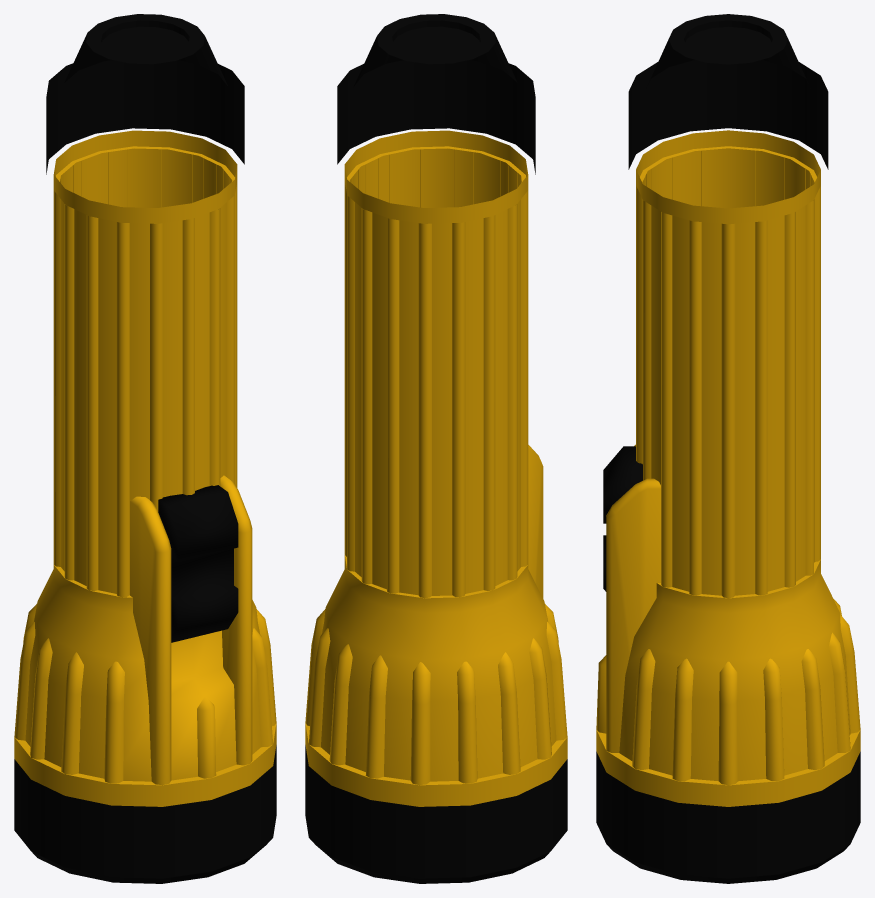
File: flashlight.fbx
3 views of the same model, side by side, from view 1: azimuth 30°, elevation 25°; view 2: azimuth 150°, elevation 25°; view 3: azimuth 270°, elevation 25° (orthographic).
Visible parts, largest first — view 1: Flashlight, flashlight_switch; view 2: Flashlight; view 3: Flashlight, flashlight_switch.
Boxes of the visible parts, x1,y1,x2,y2 form: Flashlight: (14,14,276,883); flashlight_switch: (158,485,238,642); Flashlight: (305,14,567,883); Flashlight: (596,14,860,883); flashlight_switch: (603,446,642,591).
Bounding box in the file's own units: 0.3782 × 1.25 × 0.3782.
